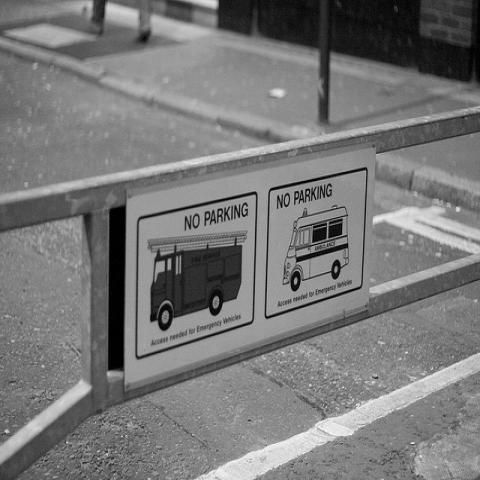truck: (148, 227, 249, 335)
